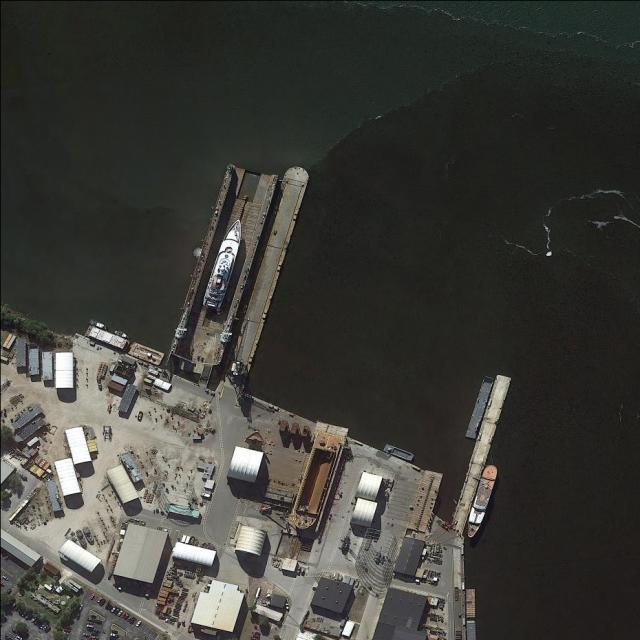Dock: (213, 161, 312, 399), (446, 372, 513, 531)
Other Ship: (383, 443, 414, 462)
Other Warship: (463, 462, 500, 540)
Yacht: (201, 217, 245, 312)
